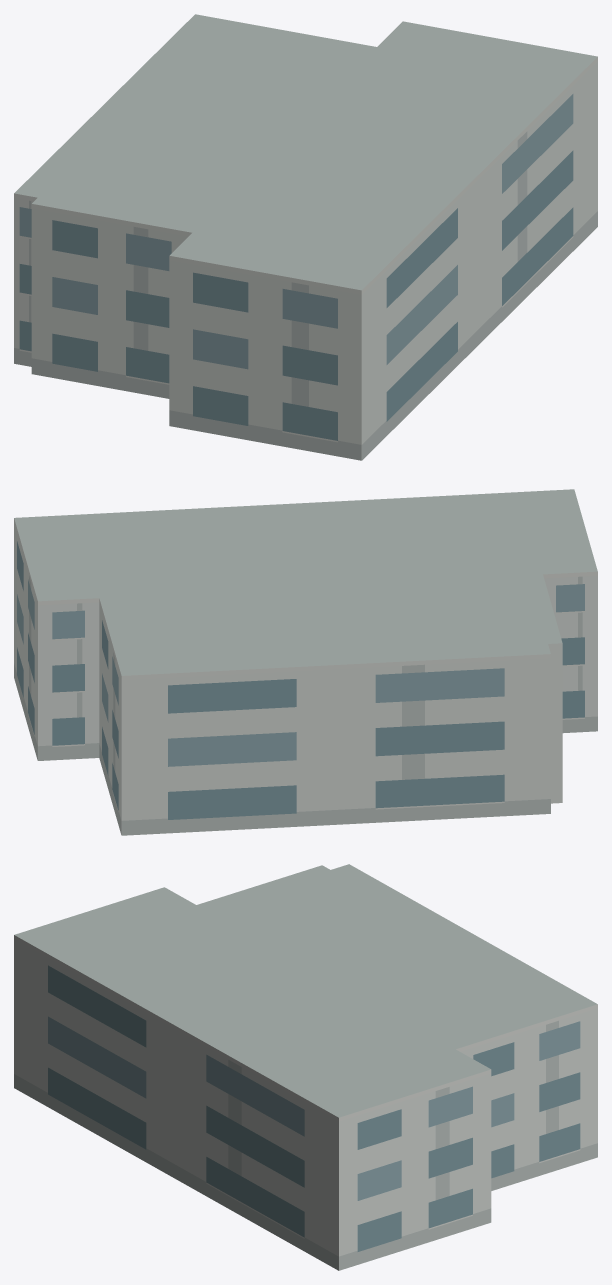
File: residential-90526821-4ed7-4f12-aae7-f4742741b13e.glb
3 views of the same model, one above another, from view 1: azimuth 30°, elevation 25°; view 2: azimuth 150°, elevation 25°; view 3: azimuth 270°, elevation 25° (orthographic). The views are drawn at different scales.
Visible parts, largest first — view 1: residential-90526821-4ed7-4f12-aae7-f4742741b13e.tmp; view 2: residential-90526821-4ed7-4f12-aae7-f4742741b13e.tmp; view 3: residential-90526821-4ed7-4f12-aae7-f4742741b13e.tmp.
Boxes of the visible parts, bbox=[...] form: residential-90526821-4ed7-4f12-aae7-f4742741b13e.tmp: bbox=[14, 14, 597, 460]; residential-90526821-4ed7-4f12-aae7-f4742741b13e.tmp: bbox=[14, 489, 597, 835]; residential-90526821-4ed7-4f12-aae7-f4742741b13e.tmp: bbox=[14, 864, 597, 1270].
Size of the model in its own units: 32.51 by 9.15 by 31.62.
